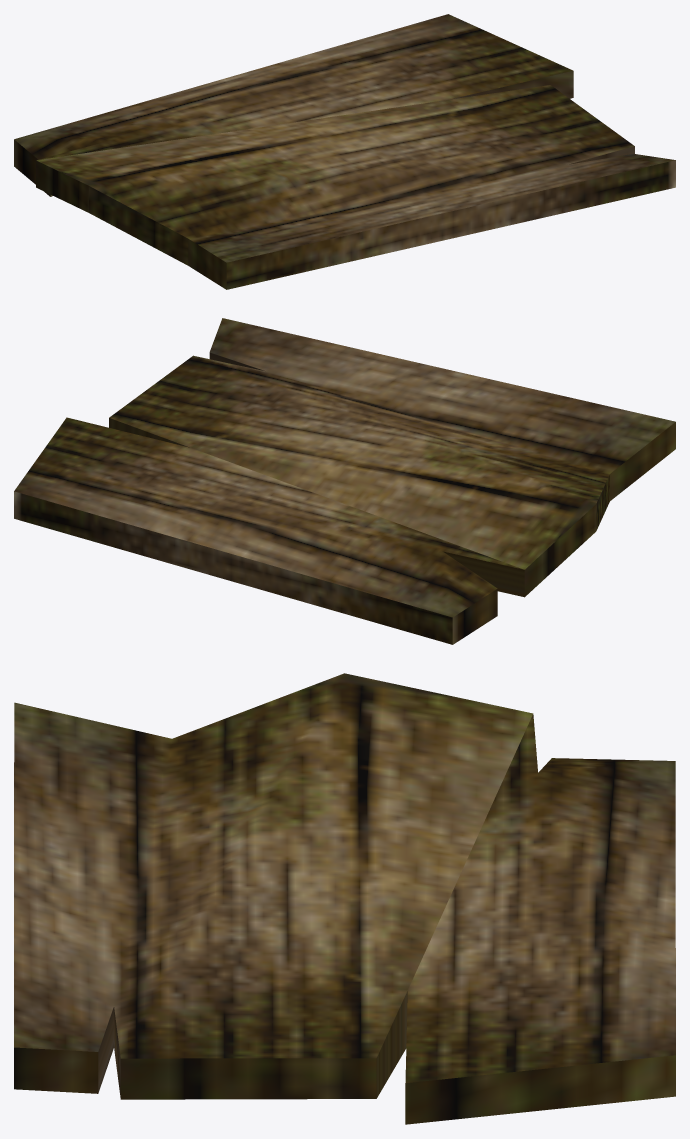
The picture shows the model from 3 angles, top to bottom: view 1: azimuth 30°, elevation 25°; view 2: azimuth 150°, elevation 25°; view 3: azimuth 270°, elevation 25°; orthographic projection. The views are drawn at different scales.
Visible parts, largest first — view 1: a21; view 2: a21; view 3: a21.
Boxes of the visible parts, bbox=[...] form: a21: bbox=[14, 14, 675, 289]; a21: bbox=[14, 318, 675, 644]; a21: bbox=[14, 673, 675, 1124].
Size of the model in its own units: 1327 by 172 by 989.
1 material, 1 textured.
